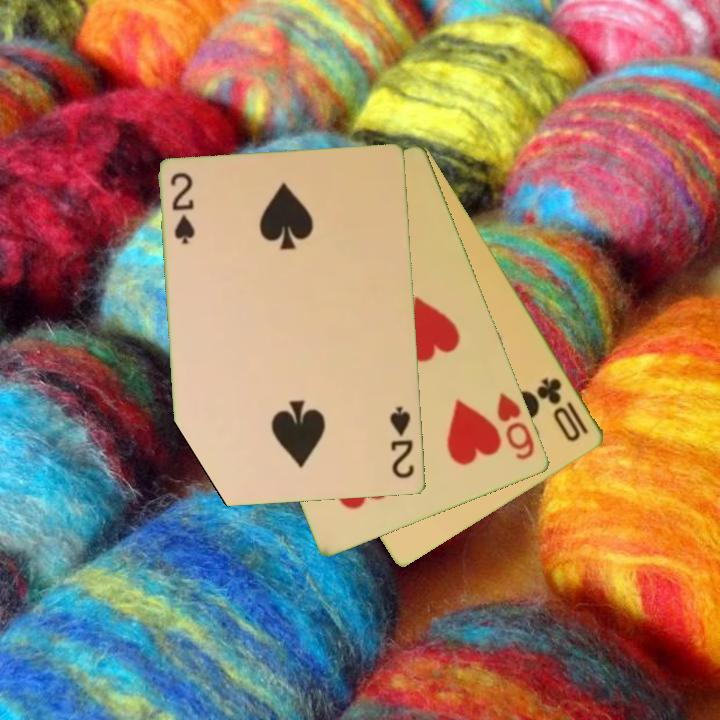10c: (534, 374, 592, 445)
2s: (386, 403, 418, 482), (168, 169, 198, 248)
6h: (494, 389, 538, 464)
